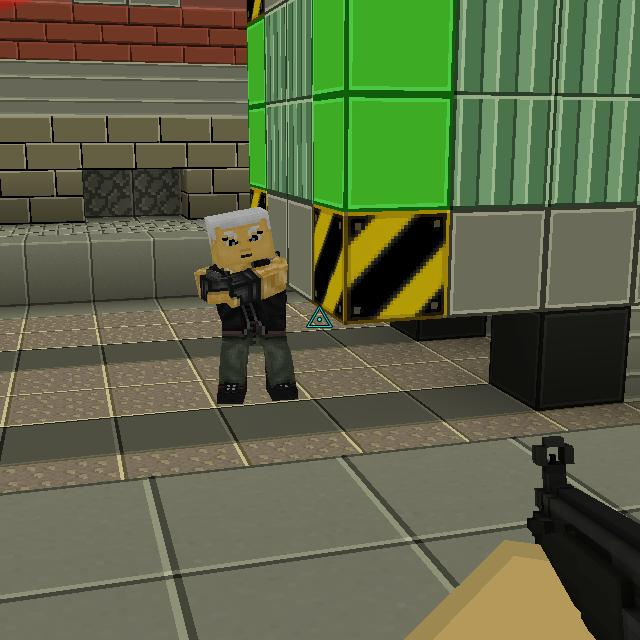enemy: (194, 201, 300, 408)
